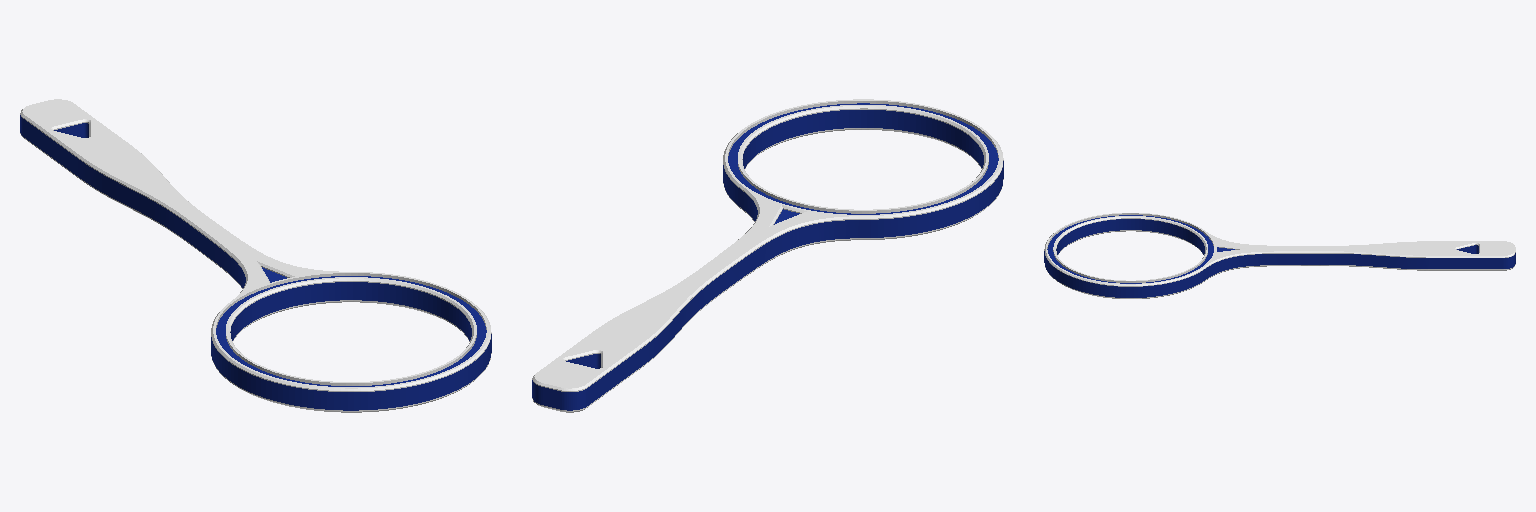
URDF robot description (hoop):
<?xml version="1.0"?>
<!-- hoop: standalone static model from Hoop.step.
     Mesh in millimetres (scale 0.001). Link origin = STEP-file origin, unchanged.
     Mass/inertia assume density 1.24 g/cm^3 -> 16.1 g (material not given in the STEP). -->
<robot name="hoop">
  <material name="hoop_white"><color rgba="0.95 0.95 0.95 1.0"/></material>
  <material name="hoop_blue"><color rgba="0.12 0.22 0.60 1.0"/></material>
  <link name="hoop_link">
    <!-- dual-colour print: white 0.8 mm face layers, blue core (split by step2stl.py);
         collision = whole hoop -->
    <visual>
      <geometry><mesh filename="meshes/hoop_white.stl" scale="0.001 0.001 0.001"/></geometry>
      <material name="hoop_white"/>
    </visual>
    <visual>
      <geometry><mesh filename="meshes/hoop_blue.stl" scale="0.001 0.001 0.001"/></geometry>
      <material name="hoop_blue"/>
    </visual>
    <collision>
      <geometry><mesh filename="meshes/hoop.stl" scale="0.001 0.001 0.001"/></geometry>
    </collision>
    <inertial>
      <origin xyz="0.000000 -0.080649 -0.003300" rpy="0 0 0"/>
      <mass value="0.01613"/>
      <inertia ixx="5.1748e-05" ixy="6.1015e-11" ixz="-4.8407e-13" iyy="3.8541e-06" iyz="6.7025e-13" izz="5.5495e-05"/>
    </inertial>
  </link>

  <!-- ring centre -->
  <link name="hoop_center"/>
  <joint name="hoop_link_to_hoop_center" type="fixed">
    <parent link="hoop_link"/><child link="hoop_center"/>
    <origin xyz="0.00000 -0.13491 0.00000" rpy="0 0 0"/>
  </joint>
</robot>

--- What the picture shows (computed from the rendered views, not written in the file) ---
3 views of the same robot in one strip: view 1: azimuth 30°, elevation 25°; view 2: azimuth 150°, elevation 25°; view 3: azimuth 270°, elevation 25° (orthographic).
Model hoop with 2 links and 1 joints (1 fixed), rooted at hoop_link, posed all joints at 0.
Visible links, largest first — view 1: hoop_link; view 2: hoop_link; view 3: hoop_link.
Link boxes in pixels (<box>): hoop_link: <box>20,99,491,412</box>; hoop_link: <box>532,99,1003,412</box>; hoop_link: <box>1044,213,1515,298</box>.
Bounding box of the posed robot: 0.0696 × 0.1897 × 0.0066 m (x, y, z).
Meshes: 2 distinct files referenced, 2 mesh visuals loaded (2 binary STL).
